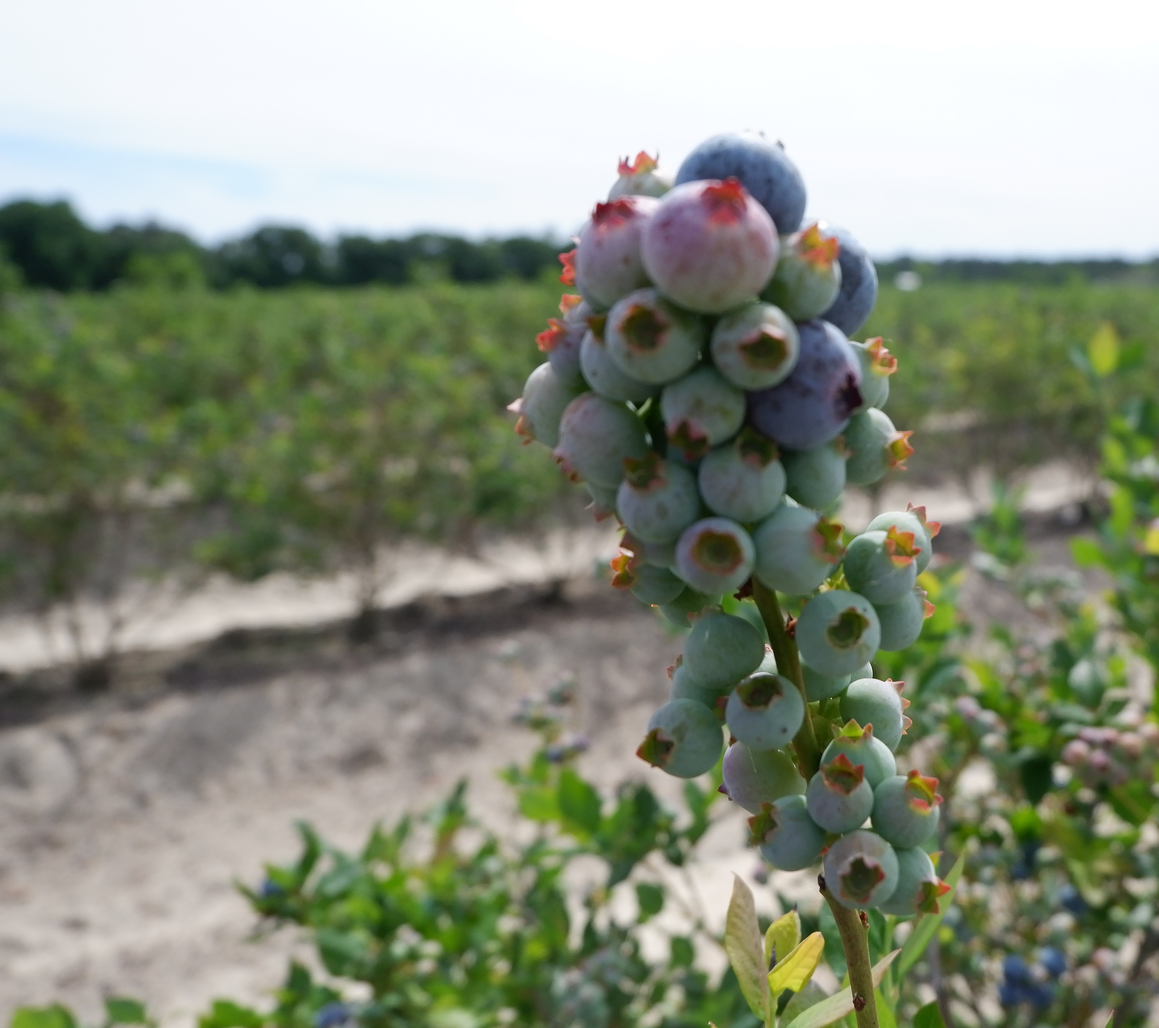Immature: (645, 177, 776, 307), (566, 197, 656, 304), (609, 289, 705, 380), (556, 394, 648, 487), (755, 505, 844, 594), (711, 303, 798, 387), (700, 436, 784, 522), (765, 228, 842, 319), (663, 364, 744, 450), (619, 456, 700, 541), (798, 593, 879, 676), (641, 701, 722, 777), (685, 612, 762, 689), (512, 364, 587, 443), (677, 519, 754, 593), (727, 677, 803, 750), (826, 832, 897, 908), (726, 744, 803, 812), (845, 410, 913, 484), (846, 532, 916, 602), (755, 798, 824, 869), (841, 679, 909, 750), (583, 332, 656, 398), (873, 776, 939, 848), (809, 757, 872, 832), (877, 851, 947, 916), (818, 726, 894, 785), (871, 504, 934, 575), (783, 441, 845, 509), (539, 310, 599, 380), (609, 553, 685, 607), (669, 659, 729, 726), (874, 586, 933, 650), (608, 152, 668, 199), (856, 338, 895, 409), (798, 655, 852, 703), (621, 528, 680, 569), (659, 586, 720, 624), (563, 292, 606, 314), (852, 662, 875, 682)
Mature: (749, 319, 859, 448), (678, 133, 807, 229), (821, 223, 876, 332)
